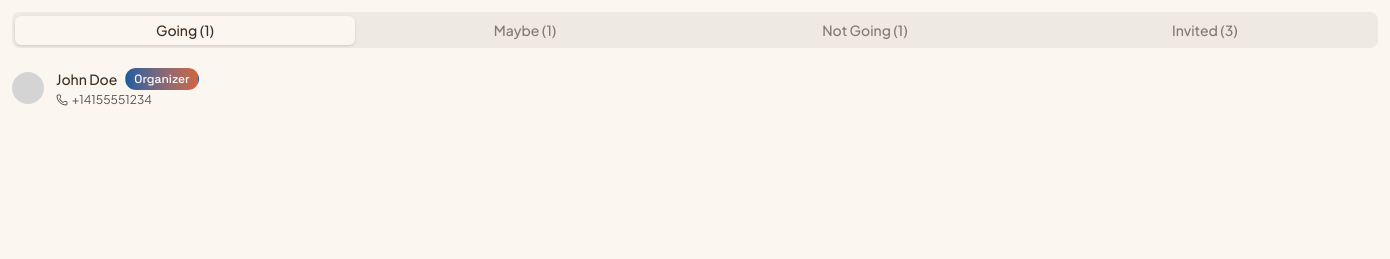
MembersList › Invited tab content › renders pending invitations with phone number and Pending badge
This screenshot has width=1390, height=259.
Step 1. Click the tab "Invited (3)" → x=1205, y=30, box x1=1035 y1=16 x2=1375 y2=44
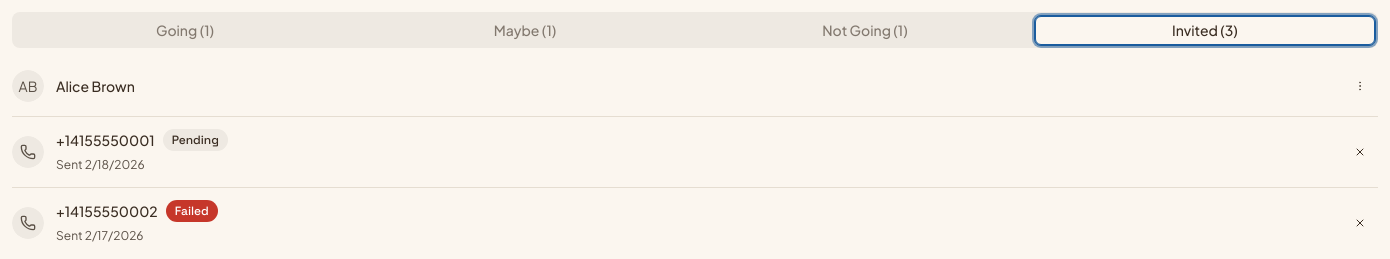
expect the text "+14155550001" is shown: met, box x1=56 y1=130 x2=155 y2=150
expect the text "Pending" is shown: met, box x1=163 y1=129 x2=228 y2=151
